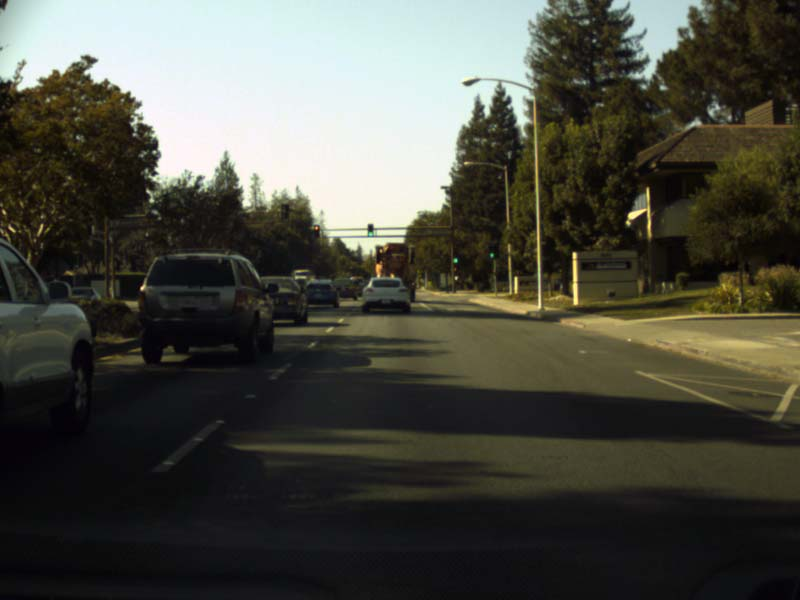Green: (367, 223, 373, 236), (488, 251, 495, 259), (453, 256, 458, 264)
Red: (314, 225, 318, 237)
